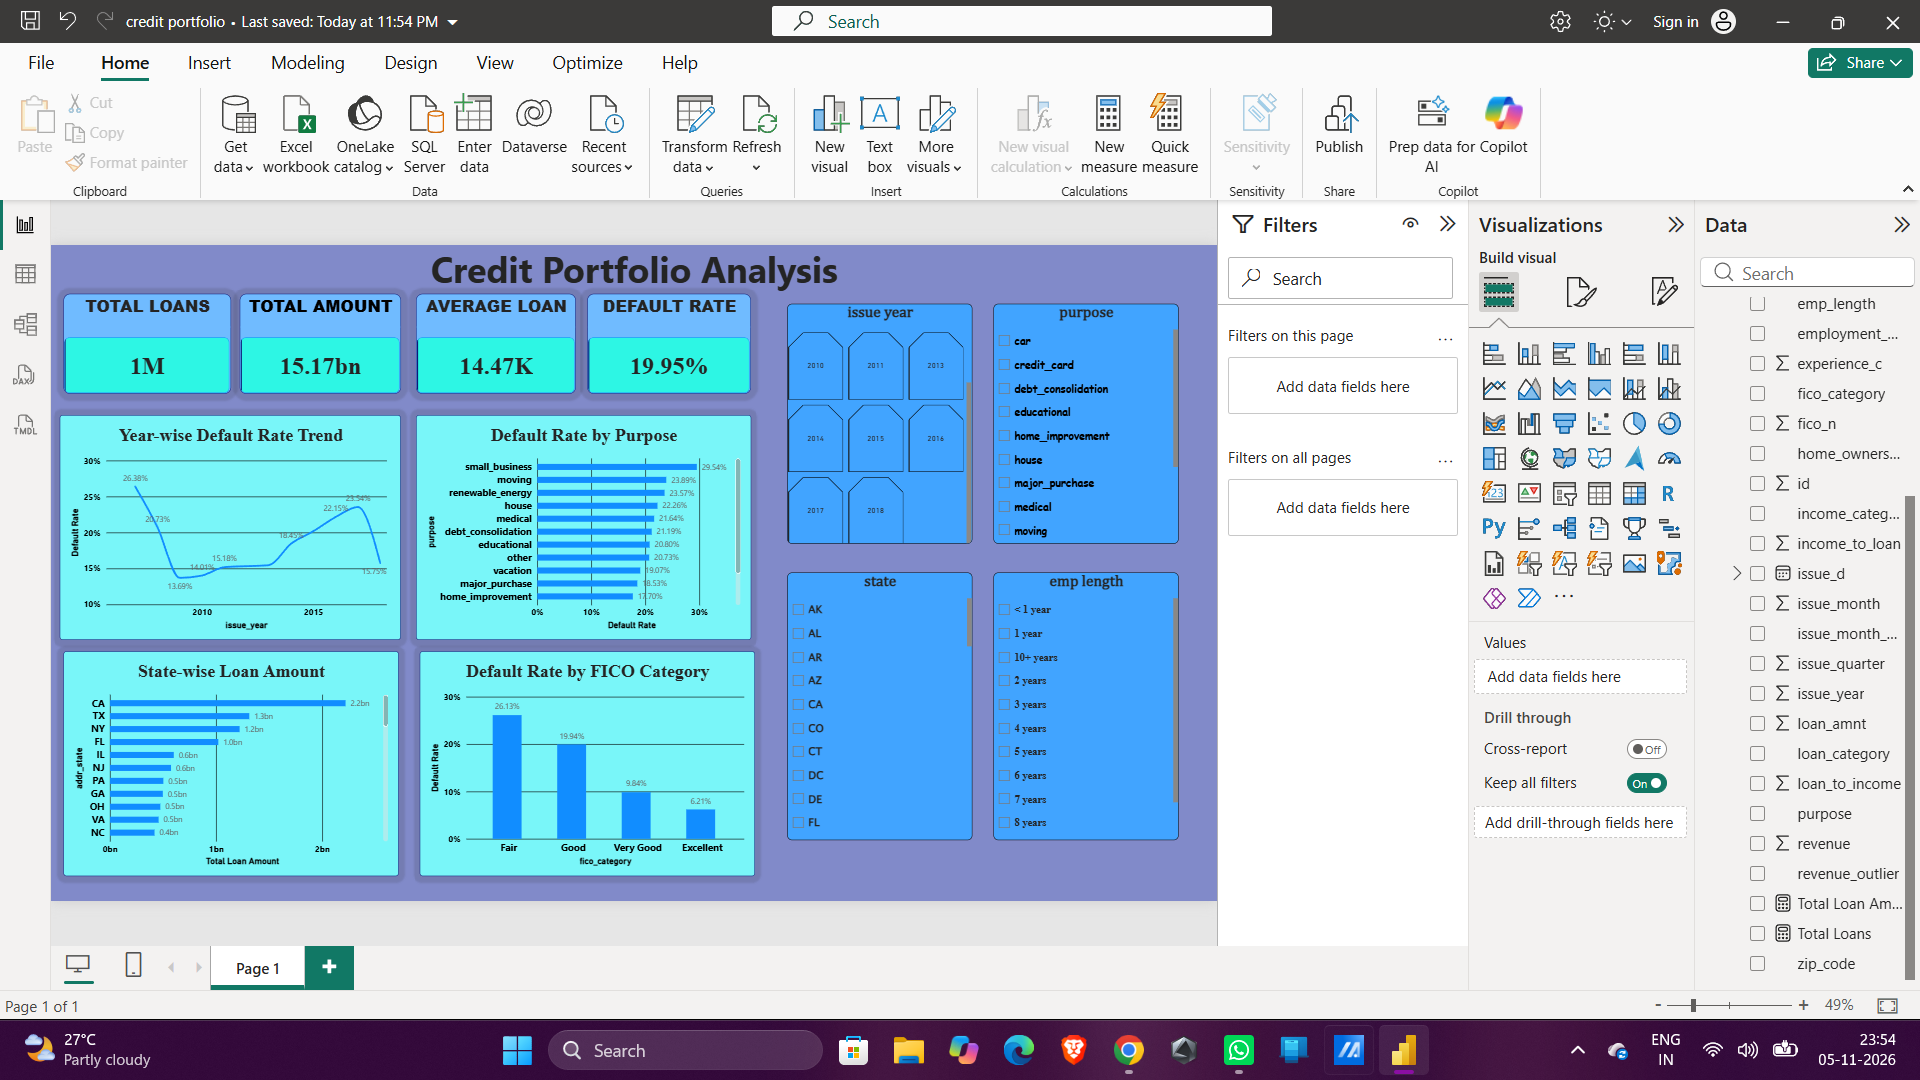

Layout of this report page (visuals, bound fields, positions):
{"tool":"powerbi","page":{"name":"Page 1","canvas":[1920,1080],"ordinal":0},"visuals":[{"type":"cardVisual","title":"TOTAL LOANS","fields":{"Data":["credit_portfolio_cleaned.Total Loans"]},"box":[20.6,80.3,275.8,164.7],"z":0},{"type":"cardVisual","title":"TOTAL AMOUNT","fields":{"Data":["credit_portfolio_cleaned.Total Loan Amount"]},"box":[310.8,80.3,265.5,164.7],"z":1000},{"type":"cardVisual","title":"AVERAGE LOAN","fields":{"Data":["credit_portfolio_cleaned.Average Loan Amount"]},"box":[601,80.3,263.5,164.7],"z":2000},{"type":"cardVisual","title":"DEFAULT RATE","fields":{"Data":["credit_portfolio_cleaned.Default Rate"]},"box":[883,80.3,269.6,164.7],"z":3000},{"type":"textbox","box":[0,0,1920.4,80.3],"z":4000},{"type":"lineChart","title":"Year-wise Default Rate Trend","fields":{"Category":["credit_portfolio_cleaned.issue_year"],"Y":["credit_portfolio_cleaned.Default Rate"]},"box":[14.4,279.9,561.9,370.5],"z":5000},{"type":"clusteredBarChart","title":"Default Rate by Purpose","fields":{"Category":["credit_portfolio_cleaned.purpose"],"Y":["credit_portfolio_cleaned.Default Rate"]},"box":[601,279.9,551.6,370.5],"z":6000},{"type":"barChart","title":"State-wise Loan Amount","fields":{"Category":["credit_portfolio_cleaned.addr_state"],"Y":["credit_portfolio_cleaned.Total Loan Amount"]},"box":[20.6,669,551.6,370.5],"z":7000},{"type":"clusteredColumnChart","title":"Default Rate by FICO Category","fields":{"Category":["credit_portfolio_cleaned.fico_category"],"Y":["credit_portfolio_cleaned.Default Rate"]},"box":[607.2,669,551.6,370.5],"z":8000},{"type":"advancedSlicerVisual","title":"issue year","fields":{"Values":["credit_portfolio_cleaned.issue_year"]},"box":[1212.4,96.7,304.6,395.2],"z":9000},{"type":"slicer","title":"purpose","fields":{"Values":["credit_portfolio_cleaned.purpose"]},"box":[1552,96.7,304.6,395.2],"z":9001},{"type":"slicer","title":" state","fields":{"Values":["credit_portfolio_cleaned.addr_state"]},"box":[1212.4,539.3,304.6,440.5],"z":9002},{"type":"slicer","title":"emp length","fields":{"Values":["credit_portfolio_cleaned.emp_length"]},"box":[1552,539.3,304.6,440.5],"z":9003}]}

Visuals, with their boxes on the page's 1920x1080 design canvas (x1, y1, x2, y2). These are canvas units, not pixel positions in the 1920x1080 screenshot, which may show the page scaled, cropped or inside an application window:
"TOTAL LOANS" cardVisual: box(21, 80, 296, 245)
"TOTAL AMOUNT" cardVisual: box(311, 80, 576, 245)
"AVERAGE LOAN" cardVisual: box(601, 80, 864, 245)
"DEFAULT RATE" cardVisual: box(883, 80, 1153, 245)
textbox: box(0, 0, 1920, 80)
"Year-wise Default Rate Trend" lineChart: box(14, 280, 576, 650)
"Default Rate by Purpose" clusteredBarChart: box(601, 280, 1153, 650)
"State-wise Loan Amount" barChart: box(21, 669, 572, 1040)
"Default Rate by FICO Category" clusteredColumnChart: box(607, 669, 1159, 1040)
"issue year" advancedSlicerVisual: box(1212, 97, 1517, 492)
"purpose" slicer: box(1552, 97, 1857, 492)
" state" slicer: box(1212, 539, 1517, 980)
"emp length" slicer: box(1552, 539, 1857, 980)
